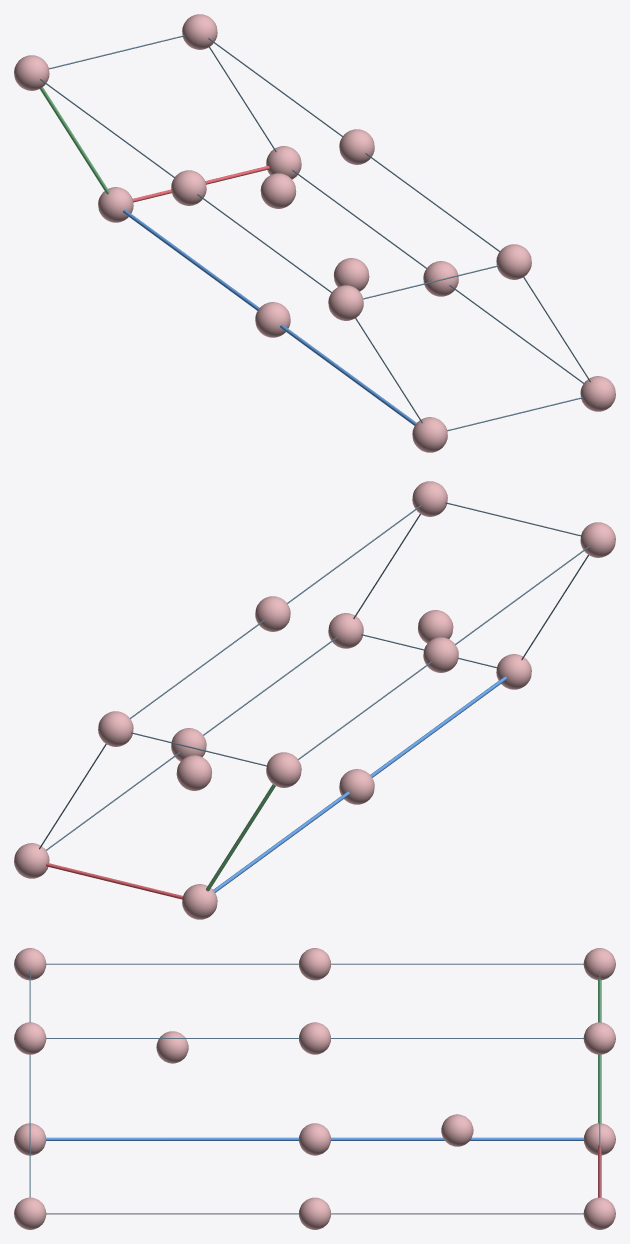
The model's file is nguyen-to-am.glb.
3 renders of one model, top to bottom at view 1: azimuth 30°, elevation 25°; view 2: azimuth 150°, elevation 25°; view 3: azimuth 270°, elevation 25°, orthographic. The views are drawn at different scales.
Visible parts, largest first — view 1: Am1 · Am · 1 (×12), Ô mạng và các trục a, b, c, Am2 · Am · 1 (×2); view 2: Am1 · Am · 1 (×12), Ô mạng và các trục a, b, c, Am2 · Am · 1 (×2); view 3: Am1 · Am · 1 (×12), Ô mạng và các trục a, b, c, Am2 · Am · 1 (×2).
Boxes of the visible parts, bbox=[...] form: Am1 · Am · 1 (×12): bbox=[14, 14, 615, 452]; Ô mạng và các trục a, b, c: bbox=[40, 35, 590, 431]; Am2 · Am · 1 (×2): bbox=[260, 173, 369, 291]; Am1 · Am · 1 (×12): bbox=[14, 481, 615, 919]; Ô mạng và các trục a, b, c: bbox=[39, 502, 589, 899]; Am2 · Am · 1 (×2): bbox=[176, 610, 453, 790]; Am1 · Am · 1 (×12): bbox=[14, 948, 615, 1229]; Ô mạng và các trục a, b, c: bbox=[29, 963, 601, 1214]; Am2 · Am · 1 (×2): bbox=[156, 1031, 473, 1146].
Bounding box in the file's own units: 5.85 × 3.65 × 11.89.
